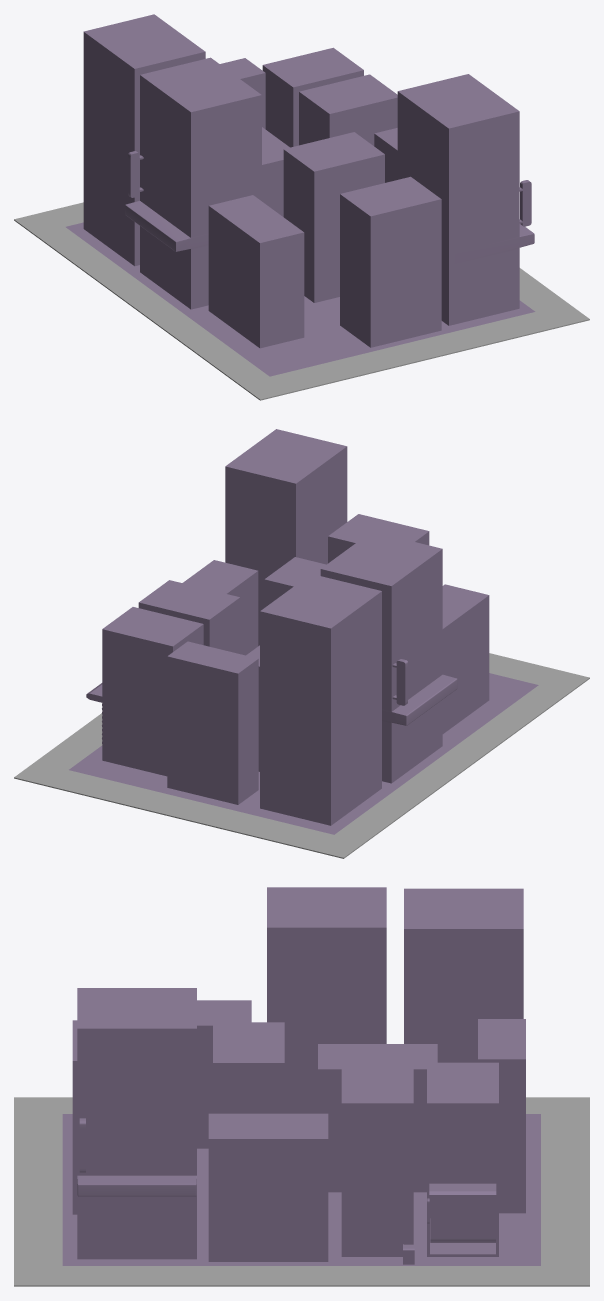
File: slums_2mod.fbx
3 renders of one model, top to bottom at view 1: azimuth 30°, elevation 25°; view 2: azimuth 150°, elevation 25°; view 3: azimuth 270°, elevation 25°, orthographic. The views are drawn at different scales.
Parts seen in each view (by area): view 1: slums_2mod8_small_building3; view 2: slums_2mod8_small_building3; view 3: slums_2mod8_small_building3.
Boxes of the visible parts, x1,y1,x2,y2 form: slums_2mod8_small_building3: (14, 14, 589, 400); slums_2mod8_small_building3: (14, 429, 589, 858); slums_2mod8_small_building3: (14, 887, 589, 1286).
Size of the model in its own units: 37.22 by 21.53 by 48.15.
